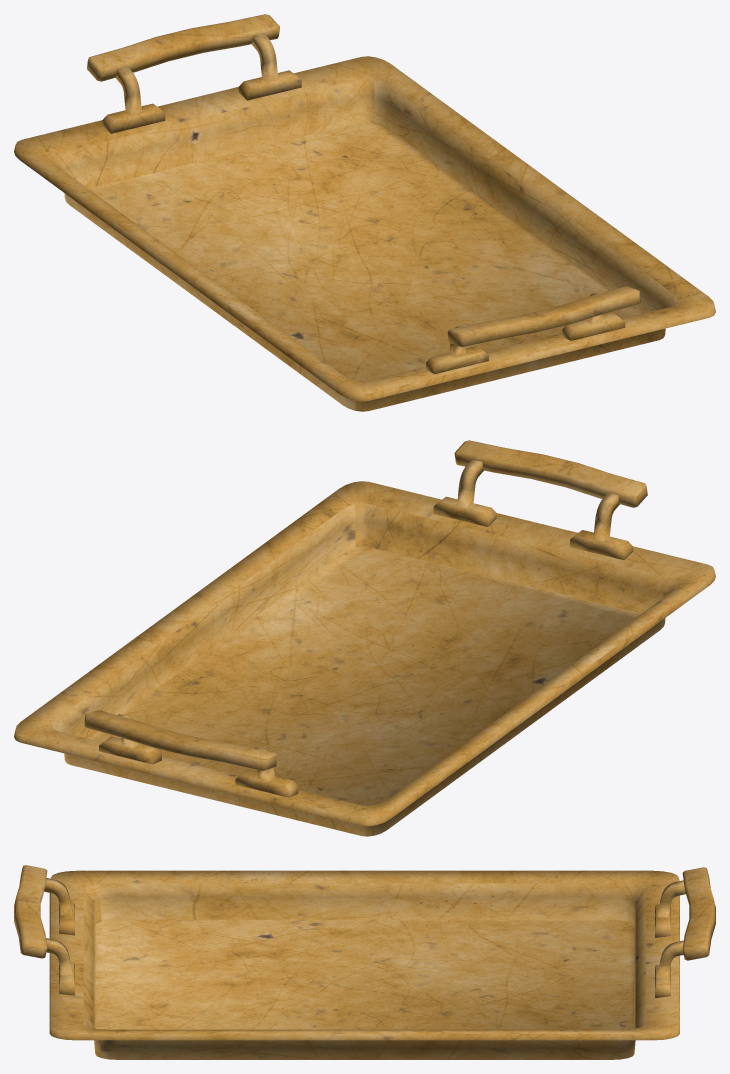
File: tray.glb
3 views of the same model, one above another, from view 1: azimuth 30°, elevation 25°; view 2: azimuth 150°, elevation 25°; view 3: azimuth 270°, elevation 25° (orthographic). The views are drawn at different scales.
Visible parts, largest first — view 1: bandeja.001; view 2: bandeja.001; view 3: bandeja.001.
Boxes of the visible parts, x1=… form: bandeja.001: x1=14, y1=14, x2=715, y2=411; bandeja.001: x1=14, y1=440, x2=715, y2=836; bandeja.001: x1=14, y1=865, x2=715, y2=1059.
Bounding box in the file's own units: 8.33 × 2.01 × 15.08.
Materials: 1 (1 with a texture image).
